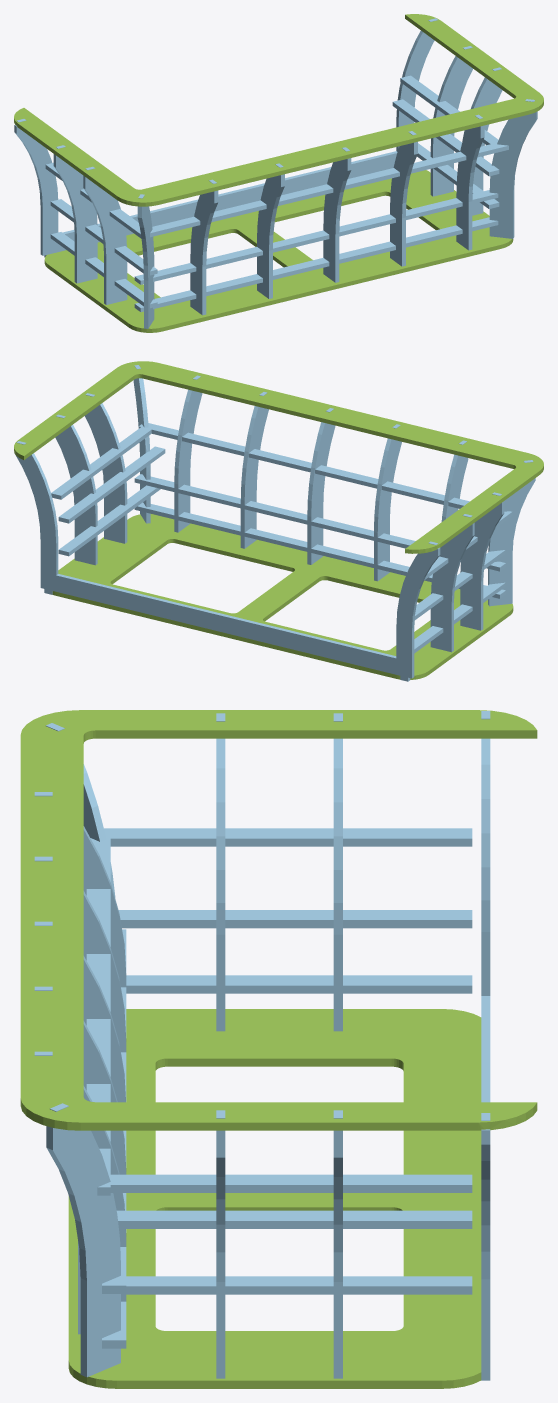
File: alzatin_Sofa-frame-velvet.glb
The picture shows the model from 3 angles, top to bottom: view 1: azimuth 30°, elevation 25°; view 2: azimuth 150°, elevation 25°; view 3: azimuth 270°, elevation 25°; orthographic projection. The views are drawn at different scales.
Parts seen in each view (by area): view 1: part-0, part-1, part-13, part-14, part-15, part-16, part-12, part-10, part-9, part-2, part-4, part-6 (+11 smaller); view 2: part-0, part-1, part-13, part-16, part-14, part-15, part-9, part-10, part-7, part-8, part-11, part-5 (+11 smaller); view 3: part-0, part-1, part-12, part-19, part-22, part-20, part-17, part-13, part-21, part-18, part-16, part-9 (+10 smaller).
Boxes of the visible parts, bbox=[...] form: part-0: bbox=[44, 170, 513, 332]; part-1: bbox=[14, 14, 543, 206]; part-13: bbox=[14, 18, 437, 257]; part-14: bbox=[134, 190, 498, 284]; part-15: bbox=[134, 217, 498, 311]; part-16: bbox=[150, 144, 508, 237]; part-12: bbox=[489, 99, 537, 238]; part-10: bbox=[83, 166, 127, 304]; part-9: bbox=[53, 145, 97, 283]; part-2: bbox=[190, 179, 218, 315]; part-4: bbox=[323, 147, 351, 282]; part-6: bbox=[456, 114, 484, 250]; part-0: bbox=[52, 514, 513, 679]; part-1: bbox=[14, 361, 543, 553]; part-13: bbox=[14, 441, 440, 681]; part-16: bbox=[138, 424, 469, 508]; part-14: bbox=[134, 474, 505, 571]; part-15: bbox=[134, 502, 505, 598]; part-9: bbox=[430, 514, 474, 652]; part-10: bbox=[460, 492, 504, 630]; part-7: bbox=[85, 393, 127, 543]; part-8: bbox=[55, 414, 97, 565]; part-11: bbox=[488, 460, 535, 606]; part-5: bbox=[240, 392, 268, 548]; part-0: bbox=[68, 1009, 481, 1388]; part-1: bbox=[20, 710, 537, 1130]; part-12: bbox=[46, 1103, 120, 1377]; part-19: bbox=[90, 828, 472, 846]; part-22: bbox=[103, 1174, 472, 1192]; part-20: bbox=[116, 1210, 472, 1228]; part-17: bbox=[118, 910, 472, 928]; part-13: bbox=[481, 711, 490, 1380]; part-21: bbox=[121, 1276, 472, 1294]; part-18: bbox=[126, 975, 472, 993]; part-16: bbox=[86, 838, 110, 1195]; part-9: bbox=[333, 713, 342, 1031].
Bounding box in the file's own units: 81.2 × 26.3 × 42.9.
